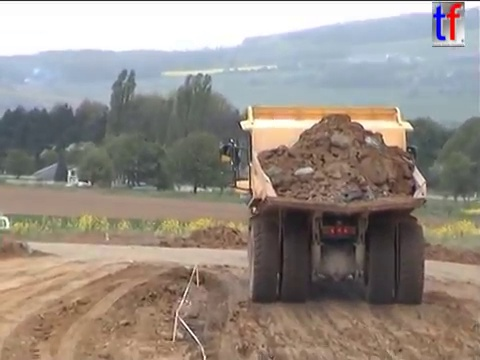truck: (215, 103, 429, 306)
